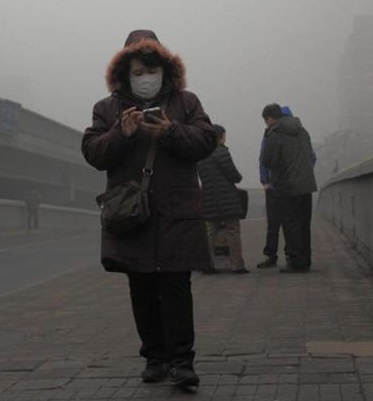person: (78, 26, 226, 394), (256, 98, 324, 278), (195, 114, 258, 284), (257, 106, 292, 267), (23, 185, 44, 231)
